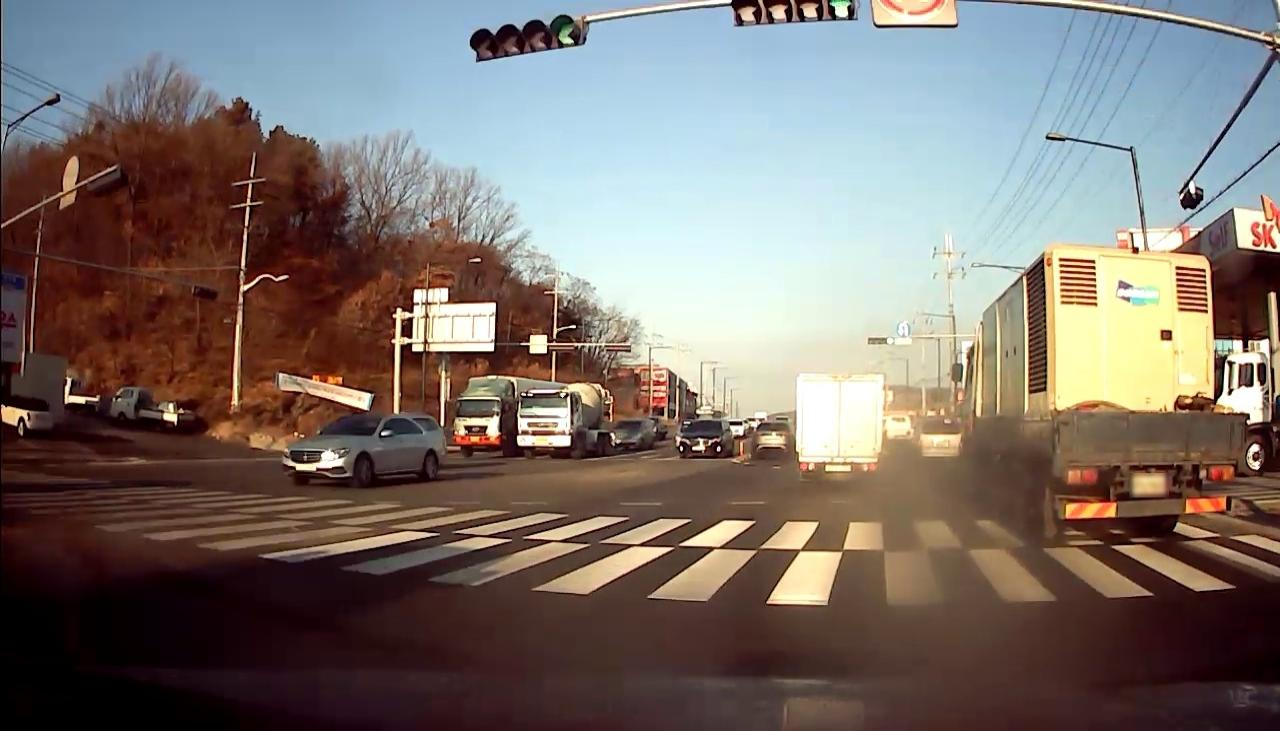Green Light: (549, 14, 583, 47), (826, 0, 853, 22), (885, 336, 894, 346)
